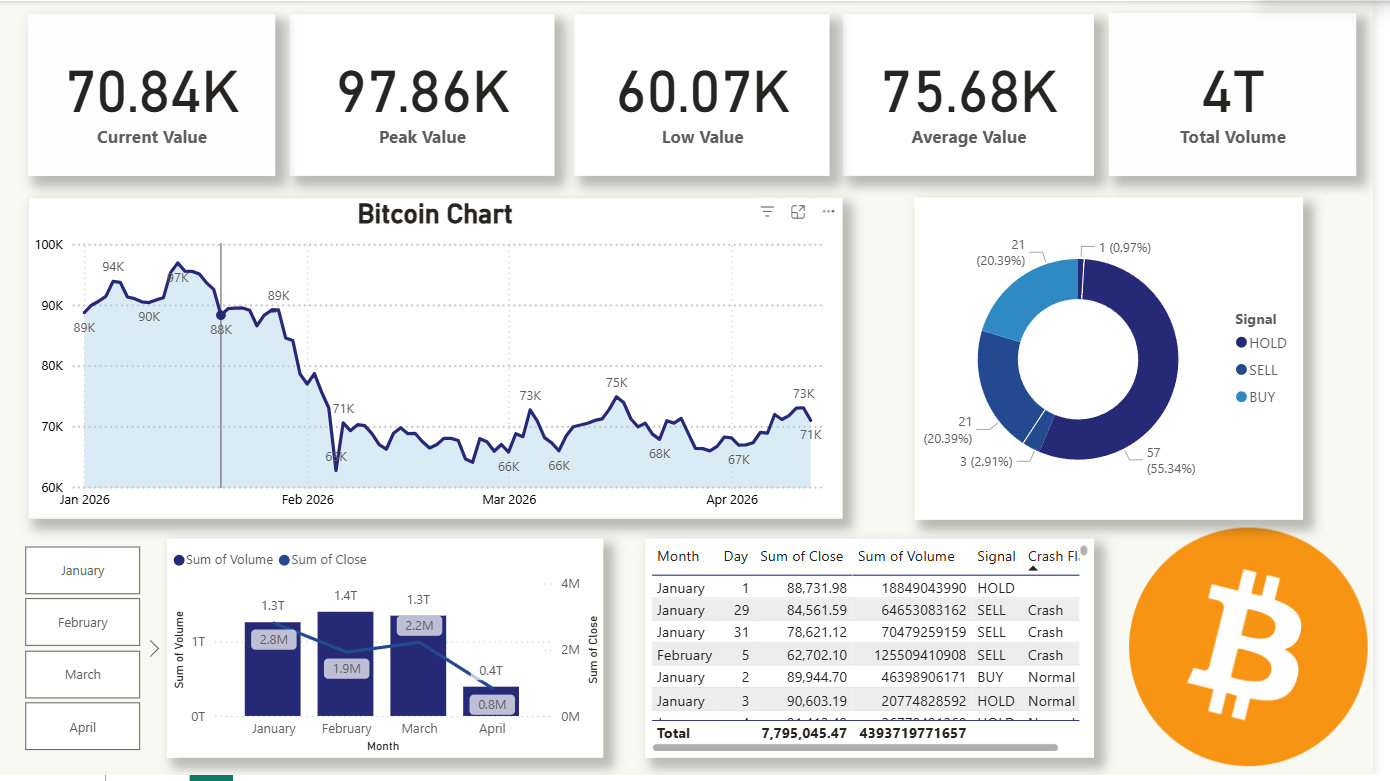

This screenshot's page, from the dashboard's own definition file:
{"tool":"powerbi","page":{"name":"Page 1","canvas":[1280,720],"ordinal":0},"visuals":[{"type":"card","title":"Highest","fields":{"Values":["Max(Sheet1.High)"]},"box":[272.5,12.5,246.2,150],"z":0},{"type":"card","fields":{"Values":["Avg(Sheet1.Close)"]},"box":[786.2,12.5,233.8,150],"z":1000},{"type":"card","fields":{"Values":["Min(Sheet1.Low)"]},"box":[537.5,12.5,237.5,150],"z":2000},{"type":"card","fields":{"Values":["Sum(Sheet1.Volume)"]},"box":[1033.8,11.2,230,151.2],"z":3000},{"type":"lineChart","title":"Bitcoin Chart","fields":{"Category":["Sheet1.Date"],"Y":["Median(Sheet1.Close)"]},"box":[28.8,182.5,757.5,298.8],"z":4000},{"type":"image","box":[1047.5,481.2,232.5,238.8],"z":5000},{"type":"slicer","fields":{"Values":["Sheet1.Date.Variation.Date Hierarchy.Month"]},"box":[0,500,157.5,203.8],"z":6000},{"type":"card","fields":{"Values":["Median(Sheet1.Close)"]},"box":[28.8,12.5,230,150],"z":7000},{"type":"lineClusteredColumnComboChart","fields":{"Category":["Sheet1.Date.Variation.Date Hierarchy.Month","Sheet1.Date.Variation.Date Hierarchy.Day"],"Y":["Sum(Sheet1.Volume)"],"Y2":["Sum(Sheet1.Close)"]},"box":[158,500,406,204],"z":8000},{"type":"tableEx","fields":{"Values":["Sheet1.Date.Variation.Date Hierarchy.Month","Sheet1.Date.Variation.Date Hierarchy.Day","Sum(Sheet1.Close)","Sum(Sheet1.Volume)","Sheet1.Signal","Sheet1.Crash Flag"]},"box":[602.5,500,417.5,203.8],"z":9000},{"type":"donutChart","fields":{"Category":["Sheet1.Signal"],"Y":["CountNonNull(Sheet1.Signal)"],"Series":["Sheet1.Crash Flag"]},"box":[853.8,182.5,361.2,300],"z":10000}]}

Visuals, with their boxes in screenshot pixels (x1, y1, x2, y2), scaled from the page's 1280x720 canvas onto the 1390x781 screenshot:
"Highest" card: <bbox>296, 14, 563, 176</bbox>
card - Avg(Sheet1.Close): <bbox>854, 14, 1108, 176</bbox>
card - Min(Sheet1.Low): <bbox>584, 14, 842, 176</bbox>
card - Sum(Sheet1.Volume): <bbox>1123, 12, 1372, 176</bbox>
"Bitcoin Chart" lineChart: <bbox>31, 198, 854, 522</bbox>
image: <bbox>1138, 522, 1389, 780</bbox>
slicer - Sheet1.Date.Variation.Date Hierarchy.Month: <bbox>0, 542, 171, 763</bbox>
card - Median(Sheet1.Close): <bbox>31, 14, 281, 176</bbox>
lineClusteredColumnComboChart - Sheet1.Date.Variation.Date Hierarchy.Month x Sheet1.Date.Variation.Date Hierarchy.Day: <bbox>172, 542, 612, 764</bbox>
tableEx - Sheet1.Date.Variation.Date Hierarchy.Month x Sheet1.Date.Variation.Date Hierarchy.Day: <bbox>654, 542, 1108, 763</bbox>
donutChart - Sheet1.Signal x CountNonNull(Sheet1.Signal): <bbox>927, 198, 1319, 523</bbox>
